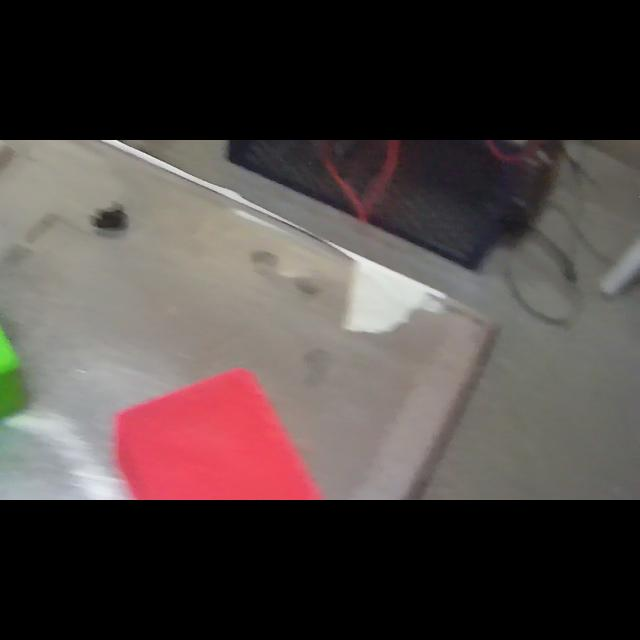greenBox: (0, 239, 30, 461)
redBox: (106, 366, 327, 499)
